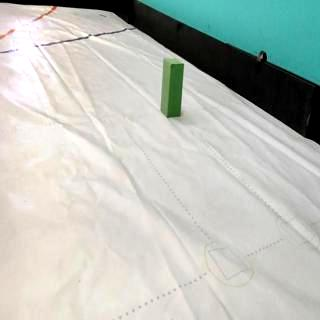greenbox: (161, 58, 183, 118)
